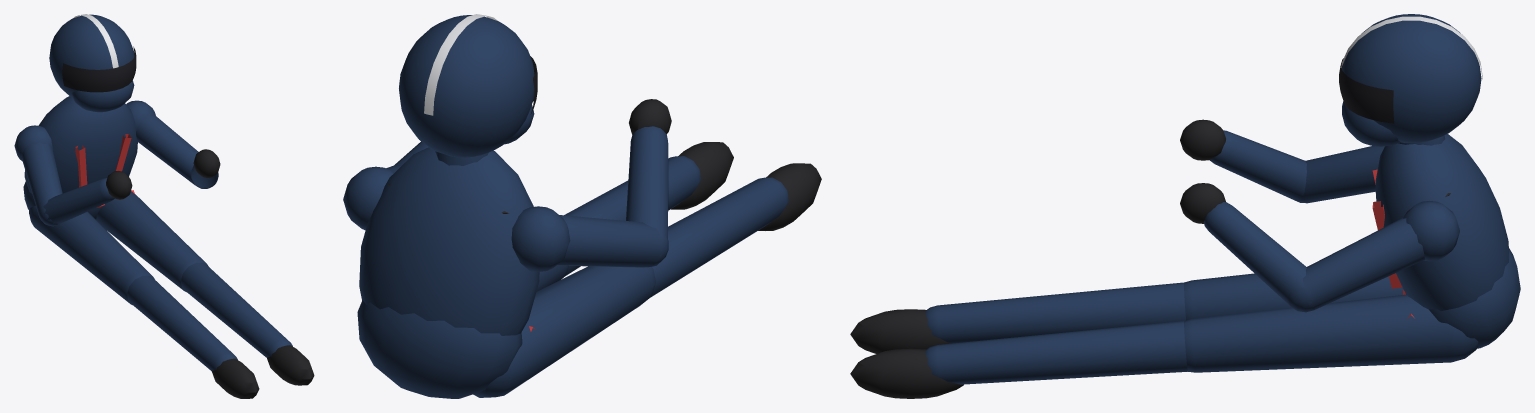
File: panini_zomba_driver.glb
3 renders of one model, left to right at view 1: azimuth 30°, elevation 25°; view 2: azimuth 150°, elevation 25°; view 3: azimuth 270°, elevation 25°, orthographic. The views are drawn at different scales.
Visible parts, largest first — view 1: panini_zomba_driver; view 2: panini_zomba_driver; view 3: panini_zomba_driver.
Boxes of the visible parts, <box> form: panini_zomba_driver: <box>14,14,314,398</box>; panini_zomba_driver: <box>343,14,821,398</box>; panini_zomba_driver: <box>850,14,1520,398</box>.
Size of the model in its own units: 0.6419 by 0.847 by 1.43.
